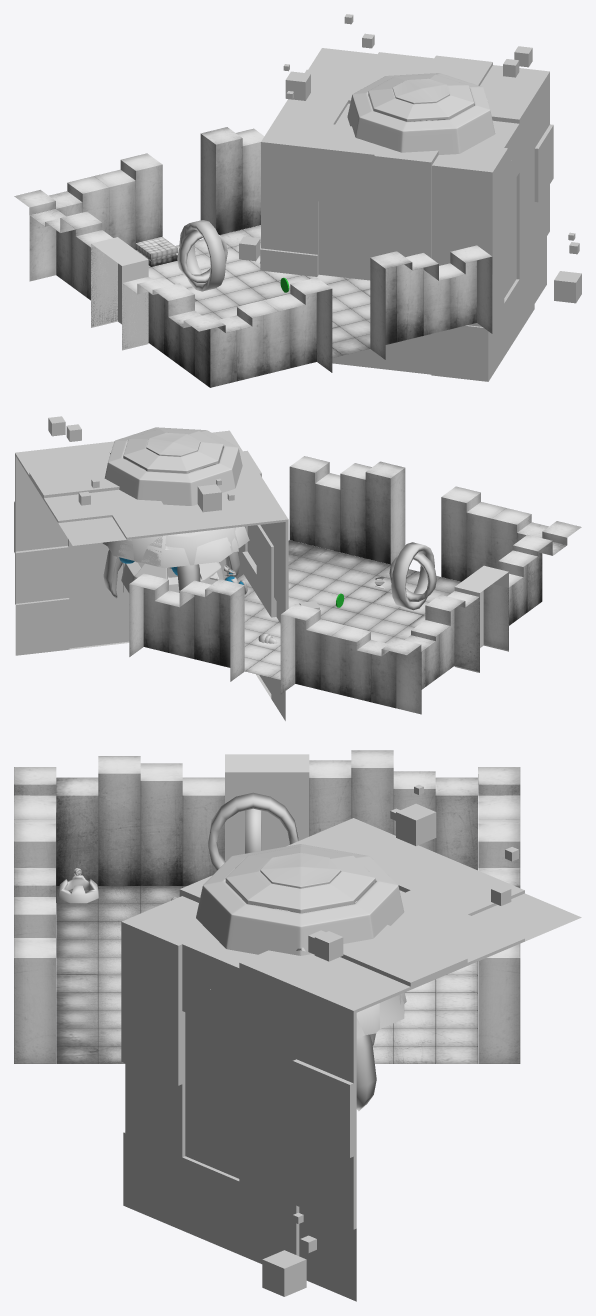
File: MSP.fbx
3 views of the same model, one above another, from view 1: azimuth 30°, elevation 25°; view 2: azimuth 150°, elevation 25°; view 3: azimuth 270°, elevation 25° (orthographic). The views are drawn at different scales.
Visible parts, largest first — view 1: Cube.008, Plane.005, Sphere.010, Plane.012, Plane.011, Sphere.009, Plane.003, Sphere.014; view 2: Plane.005, Cube.008, Plane.012, Sphere.010, Sphere.002, Sphere.009, Plane.011, Sphere.005, Sphere.013, Sphere.025, Sphere.014, Sphere.004 (+1 smaller); view 3: Cube.008, Plane.005, Plane.012, Sphere.010, Plane.011, Sphere.009, Sphere.025, Sphere.018, Sphere.002, Sphere.014.
Boxes of the visible parts, left/top/right/bottom form: Cube.008: left=239, top=14, right=581, bottom=381; Plane.005: left=14, top=127, right=492, bottom=387; Sphere.010: left=347, top=73, right=495, bottom=154; Plane.012: left=62, top=225, right=370, bottom=376; Plane.011: left=91, top=237, right=148, bottom=350; Sphere.009: left=179, top=220, right=225, bottom=291; Plane.003: left=135, top=236, right=177, bottom=266; Sphere.014: left=177, top=230, right=227, bottom=282; Plane.005: left=129, top=456, right=581, bottom=714; Cube.008: left=14, top=416, right=319, bottom=720; Plane.012: left=237, top=540, right=532, bottom=688; Sphere.010: left=104, top=427, right=242, bottom=505; Sphere.002: left=107, top=453, right=249, bottom=568; Sphere.009: left=391, top=542, right=434, bottom=610; Plane.011: left=454, top=565, right=508, bottom=672; Sphere.005: left=102, top=527, right=235, bottom=565; Sphere.013: left=121, top=561, right=223, bottom=592; Sphere.025: left=103, top=549, right=239, bottom=598; Sphere.014: left=389, top=552, right=436, bottom=601; Sphere.004: left=107, top=536, right=239, bottom=566; Cube.008: left=121, top=784, right=581, bottom=1301; Plane.005: left=14, top=750, right=520, bottom=1063; Plane.012: left=56, top=886, right=477, bottom=1063; Sphere.010: left=196, top=844, right=404, bottom=955; Plane.011: left=225, top=754, right=309, bottom=861; Sphere.009: left=208, top=792, right=298, bottom=870; Sphere.025: left=356, top=1034, right=376, bottom=1111; Sphere.018: left=58, top=875, right=98, bottom=903; Sphere.002: left=301, top=947, right=404, bottom=1038; Sphere.014: left=245, top=808, right=261, bottom=853.
Size of the model in its own units: 18.16 by 9.29 by 13.36.
